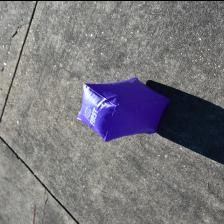cube: (76, 76, 172, 140)
